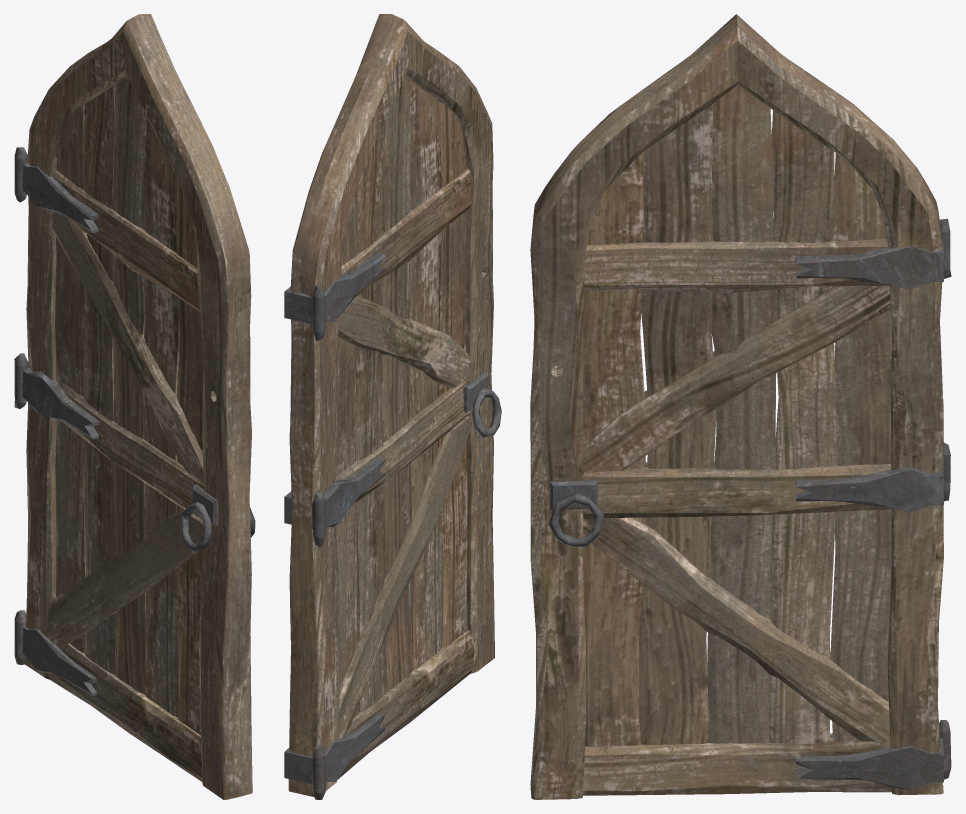
Rendered from SM_Door_01.fbx.
3 views of the same model, side by side, from view 1: azimuth 30°, elevation 25°; view 2: azimuth 150°, elevation 25°; view 3: azimuth 270°, elevation 25° (orthographic). The views are drawn at different scales.
Visible parts, largest first — view 1: SM_Door_01_LOD0; view 2: SM_Door_01_LOD0; view 3: SM_Door_01_LOD0.
Part boxes in pixels (x1=…): SM_Door_01_LOD0: x1=14, y1=14, x2=255, y2=799; SM_Door_01_LOD0: x1=284, y1=14, x2=501, y2=799; SM_Door_01_LOD0: x1=530, y1=14, x2=951, y2=799.
Bounding box in the file's own units: 21.71 × 118 × 239.
